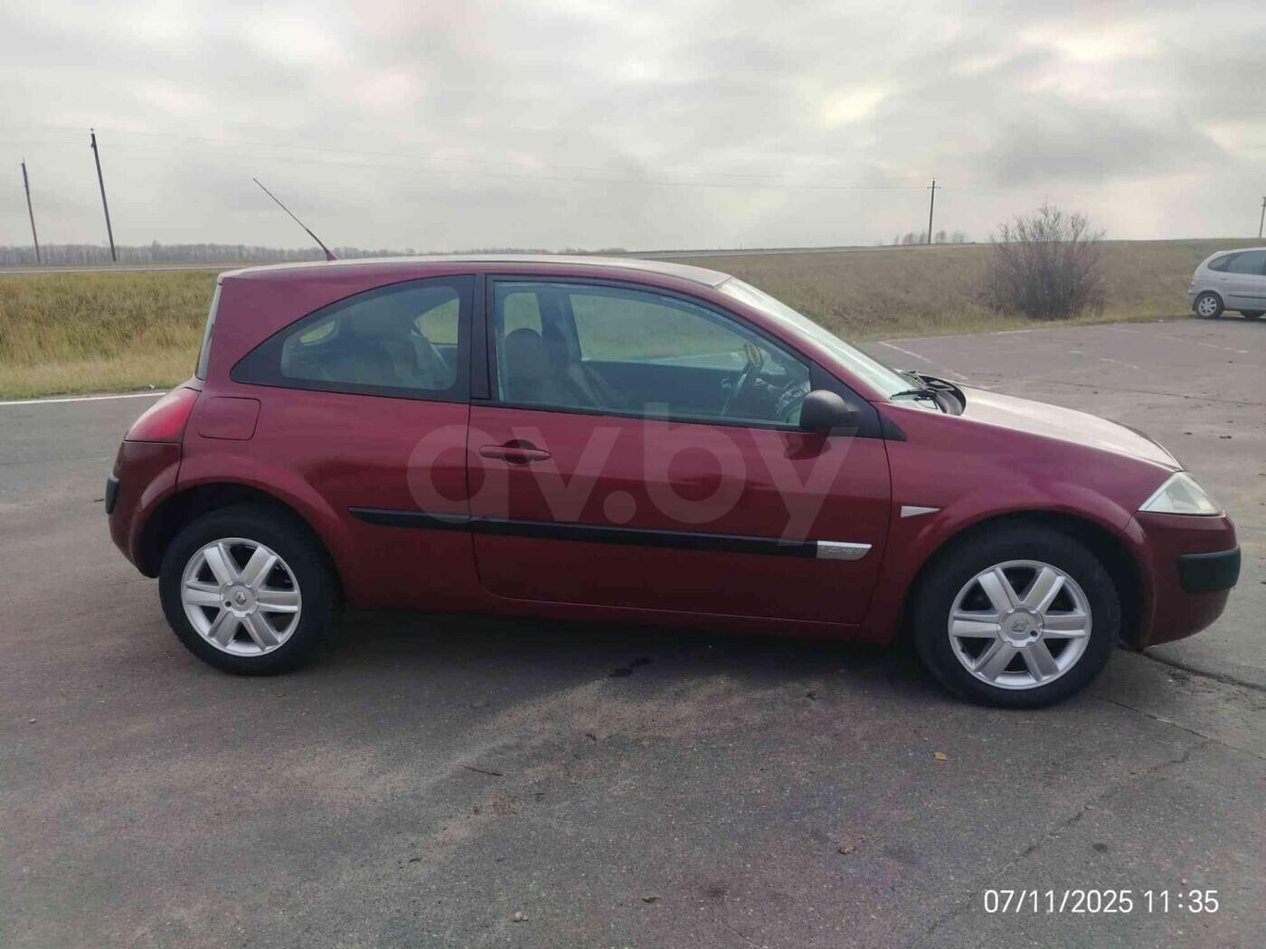Megane_2002-2006: (110, 248, 1248, 713)
